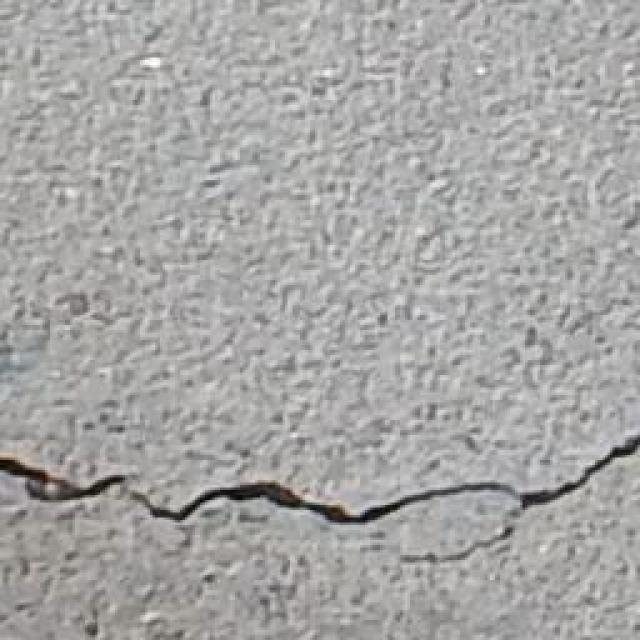concrete-crack: (0, 432, 635, 562)
